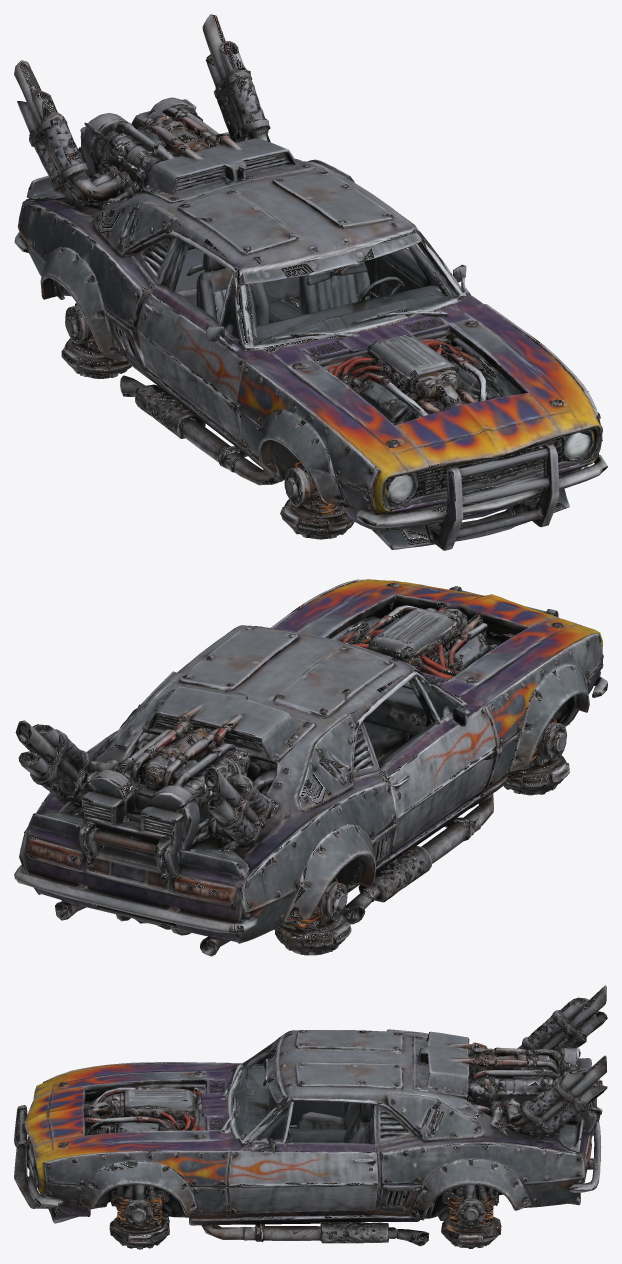
File: rustfire_interceptor_browser.glb
3 views of the same model, one above another, from view 1: azimuth 30°, elevation 25°; view 2: azimuth 150°, elevation 25°; view 3: azimuth 270°, elevation 25° (orthographic). The views are drawn at different scales.
Parts seen in each view (by area): view 1: rustfire_interceptor; view 2: rustfire_interceptor; view 3: rustfire_interceptor.
Boxes of the visible parts, bbox=[...] form: rustfire_interceptor: bbox=[14, 14, 607, 550]; rustfire_interceptor: bbox=[14, 579, 607, 956]; rustfire_interceptor: bbox=[14, 985, 607, 1249].
Bounding box in the file's own units: 2.4 × 1.91 × 5.58.
1 material, 1 textured.
